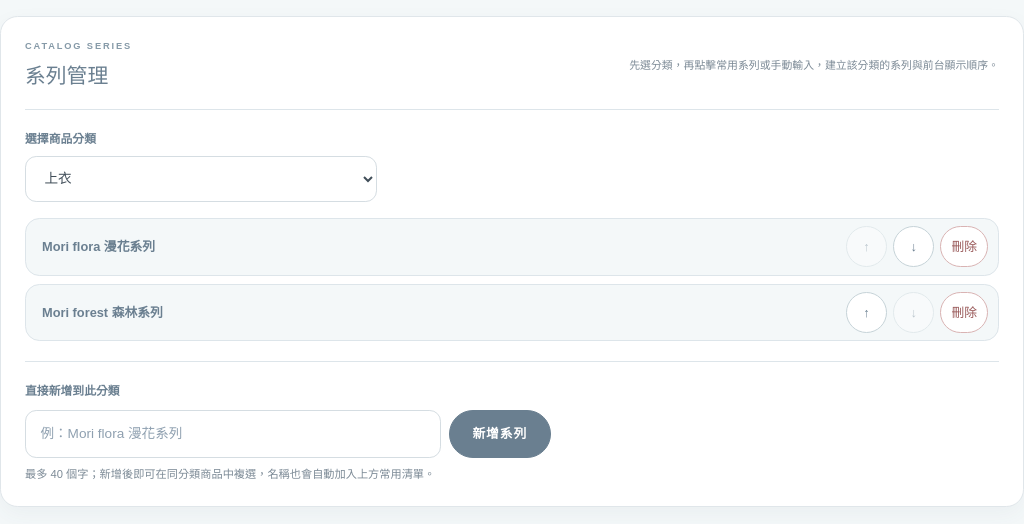
it: series manager › shows only series belonging to the selected category
Expected: the text "Mori flora 漫花系列" is shown, [42,236,155,257]
Expected: the text "Mori forest 森林系列" is shown, [42,302,163,323]
Select "褲裝" in the dropdown labelled "選擇商品分類": (201, 179) [25,156,377,202]
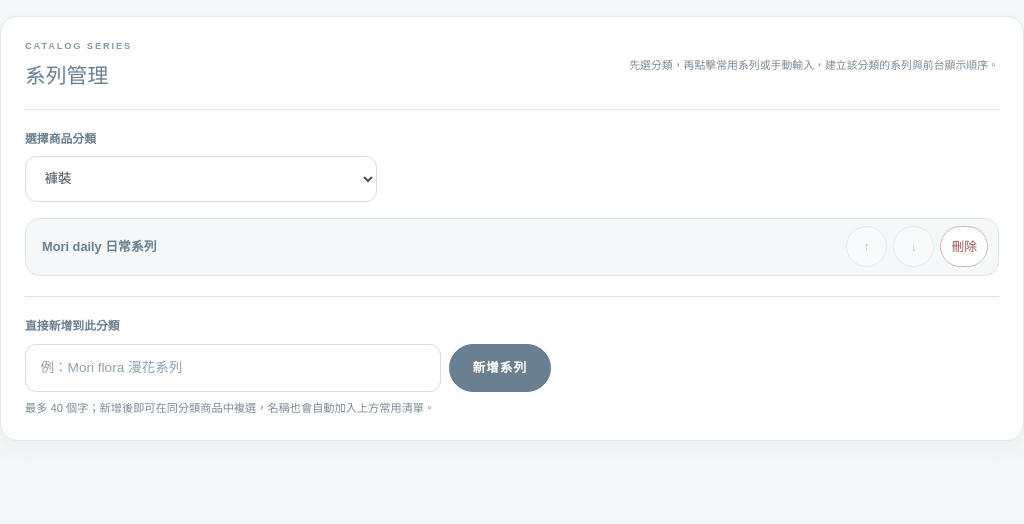
Expected: the list named "褲裝系列" shows "Mori daily 日常系列", [42,239,156,254]
